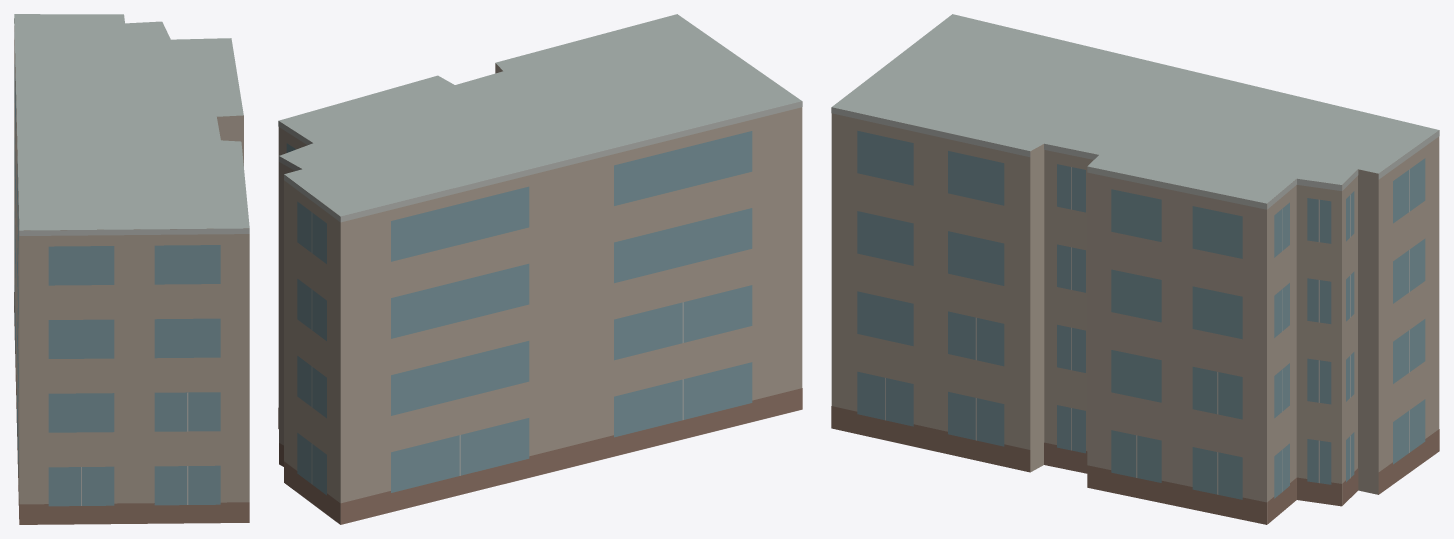
Rendered from survey-upis-32682397.glb.
3 views of the same model, side by side, from view 1: azimuth 30°, elevation 25°; view 2: azimuth 150°, elevation 25°; view 3: azimuth 270°, elevation 25° (orthographic). The views are drawn at different scales.
Visible parts, largest first — view 1: survey-upis-32682397.tmp; view 2: survey-upis-32682397.tmp; view 3: survey-upis-32682397.tmp.
Part boxes in pixels (bbox=[...]): survey-upis-32682397.tmp: bbox=[14, 14, 249, 524]; survey-upis-32682397.tmp: bbox=[278, 14, 802, 524]; survey-upis-32682397.tmp: bbox=[831, 14, 1439, 524].
Size of the model in its own units: 16.22 by 12.8 by 21.96.
